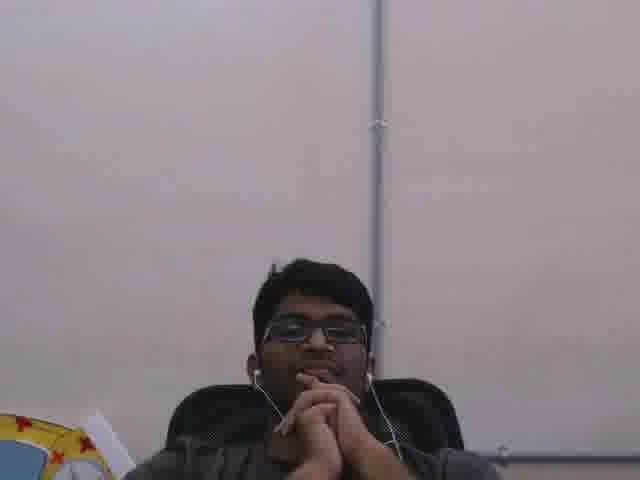bosan: (263, 288, 364, 409)
